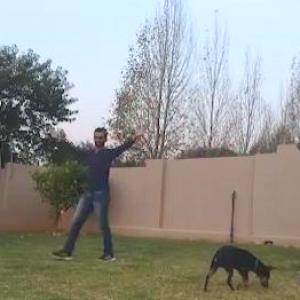takeoff: (54, 124, 176, 258)
